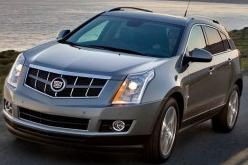front_view: (1, 48, 158, 145)
headlight: (111, 68, 158, 106)
side_glass: (178, 24, 237, 66)
